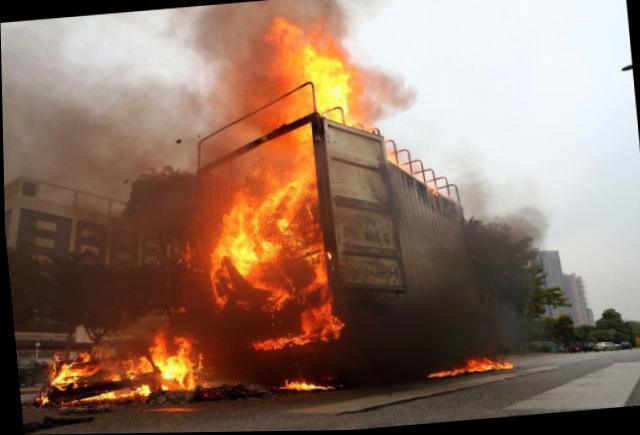fire: (306, 42, 354, 118), (217, 223, 281, 275), (273, 20, 311, 88), (289, 126, 318, 199), (266, 170, 299, 229), (248, 332, 329, 350), (229, 190, 269, 226), (158, 355, 196, 389), (302, 305, 340, 333), (283, 87, 314, 121), (51, 362, 79, 389), (148, 327, 169, 361), (284, 379, 334, 393), (466, 358, 513, 371), (310, 254, 328, 285), (268, 288, 290, 309), (78, 390, 118, 401), (74, 361, 101, 377), (173, 335, 194, 353), (135, 354, 152, 373), (209, 244, 221, 270), (428, 370, 466, 378), (122, 358, 135, 379), (208, 270, 219, 294), (319, 289, 332, 309), (213, 293, 229, 309), (133, 384, 150, 396), (249, 279, 270, 288), (77, 351, 89, 361), (109, 373, 120, 379)
